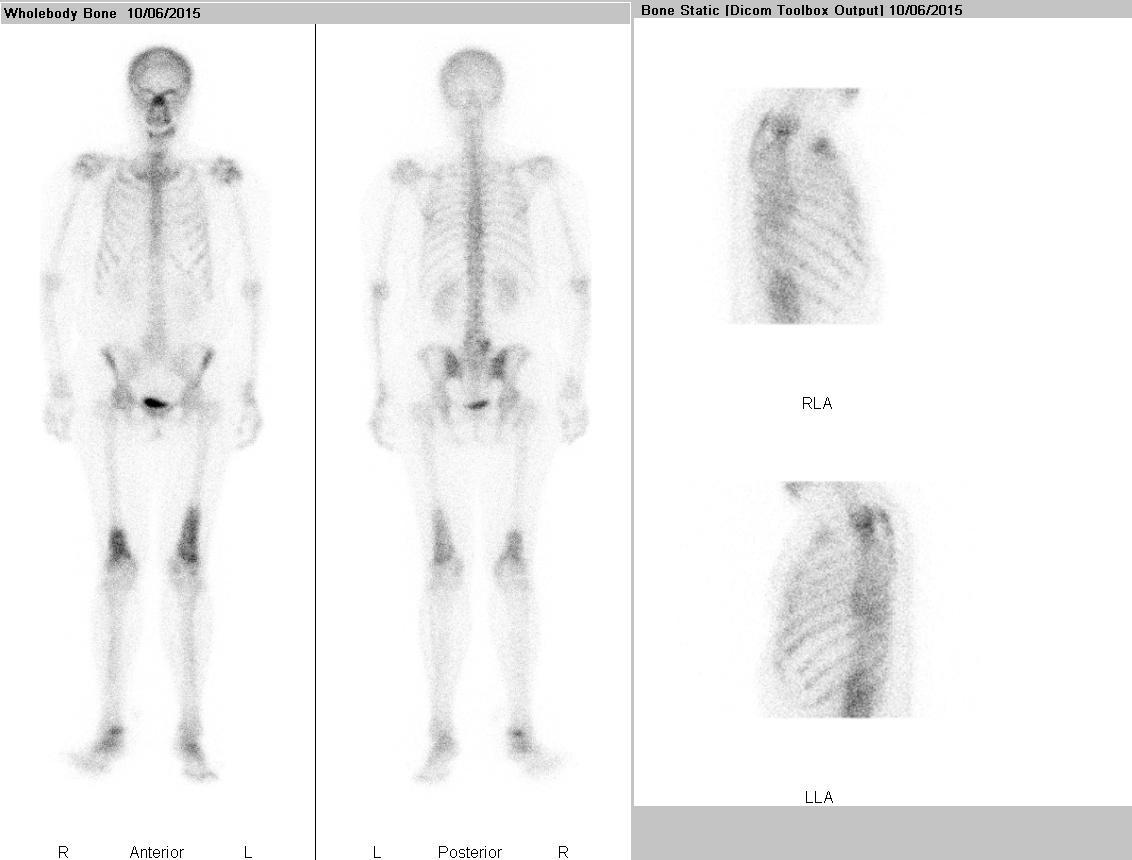person: (1, 23, 631, 860)
